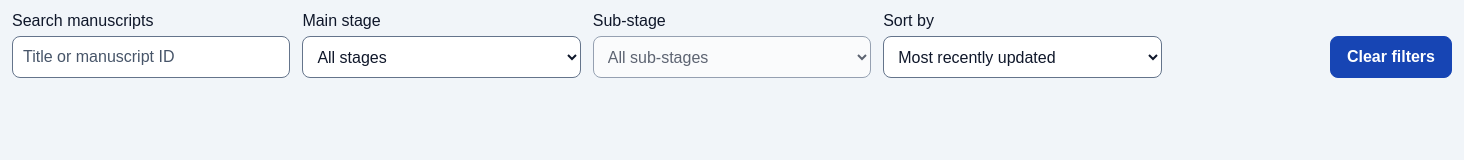
it: keeps clear after sorting and resets search, stage and sort
This screenshot has width=1464, height=160.
Type "Synthetic" into the search field labelled "Search manuscripts" at (151, 57), box [12,36,290,78]
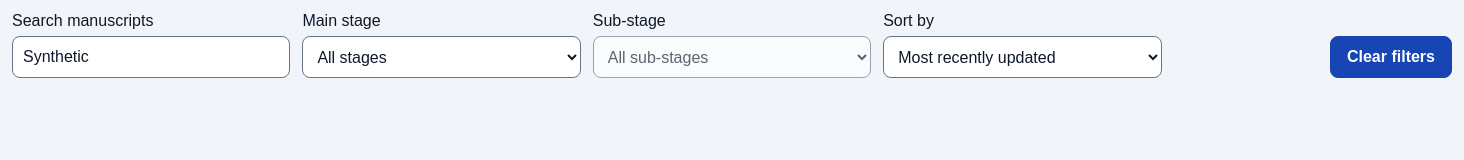
Select "Peer review" in the dropdown labelled "Main stage" at (442, 57), box [302,36,581,78]
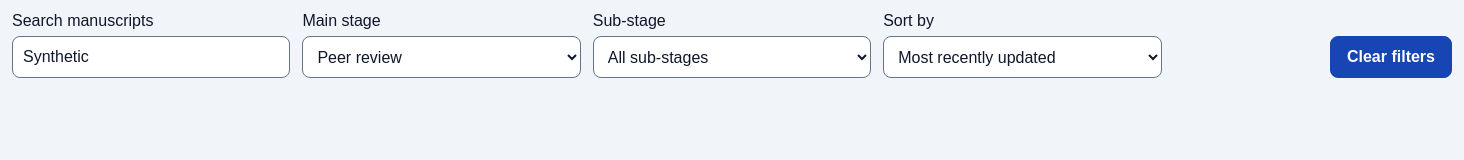
Select "Title" in the dropdown labelled "Sort by" at (1022, 57), box [883,36,1162,78]
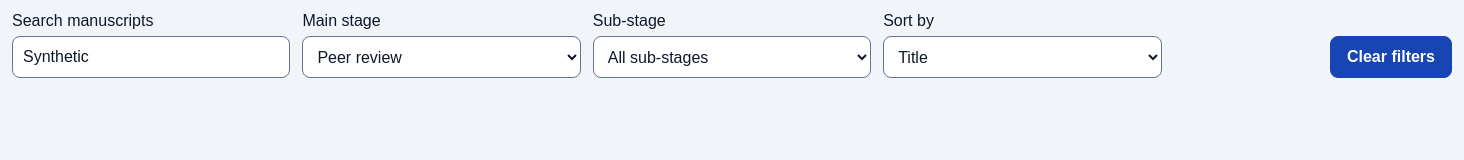
Click the button "Clear filters" at (1391, 57), box [1330,36,1452,78]
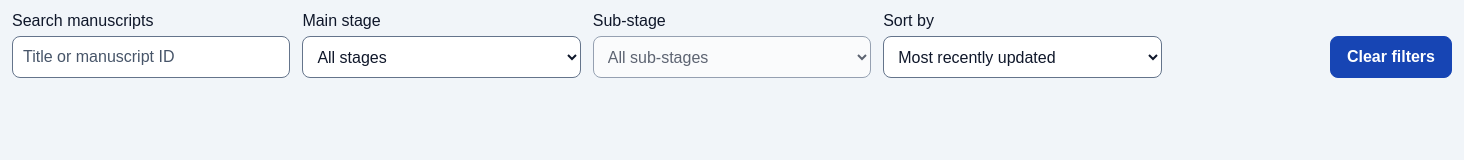
Expected: the search field labelled "Search manuscripts" is empty, [12,36,290,78]
